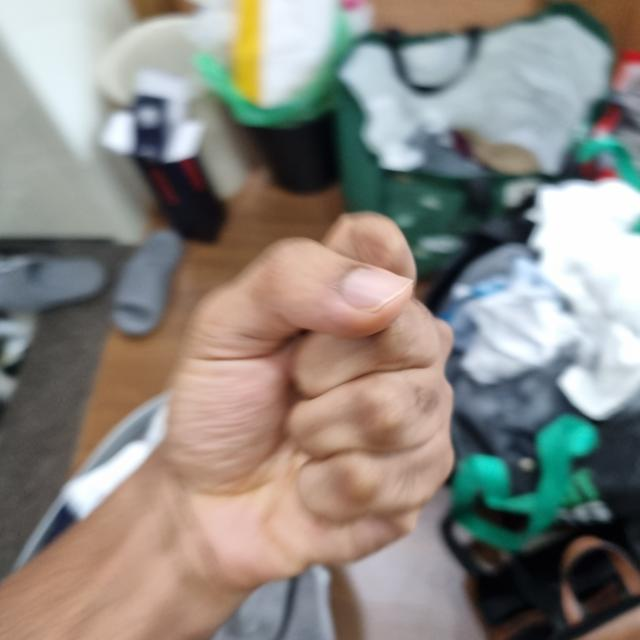Rock: (152, 222, 451, 608)
